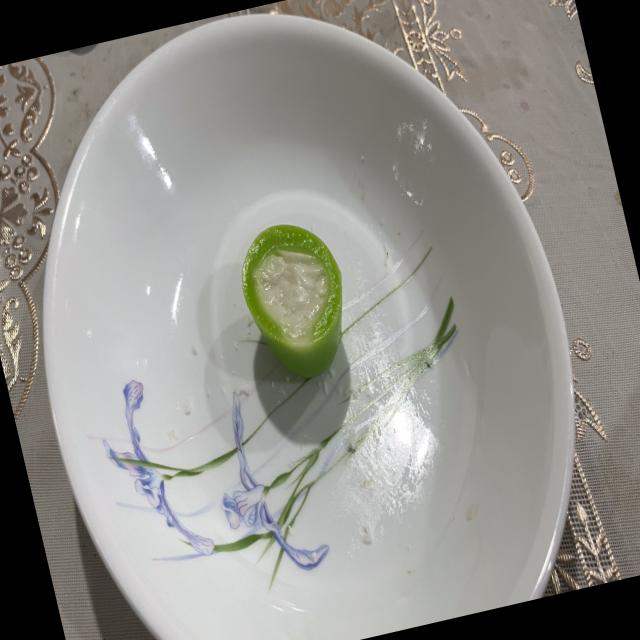nona-manis: (241, 223, 342, 377)
